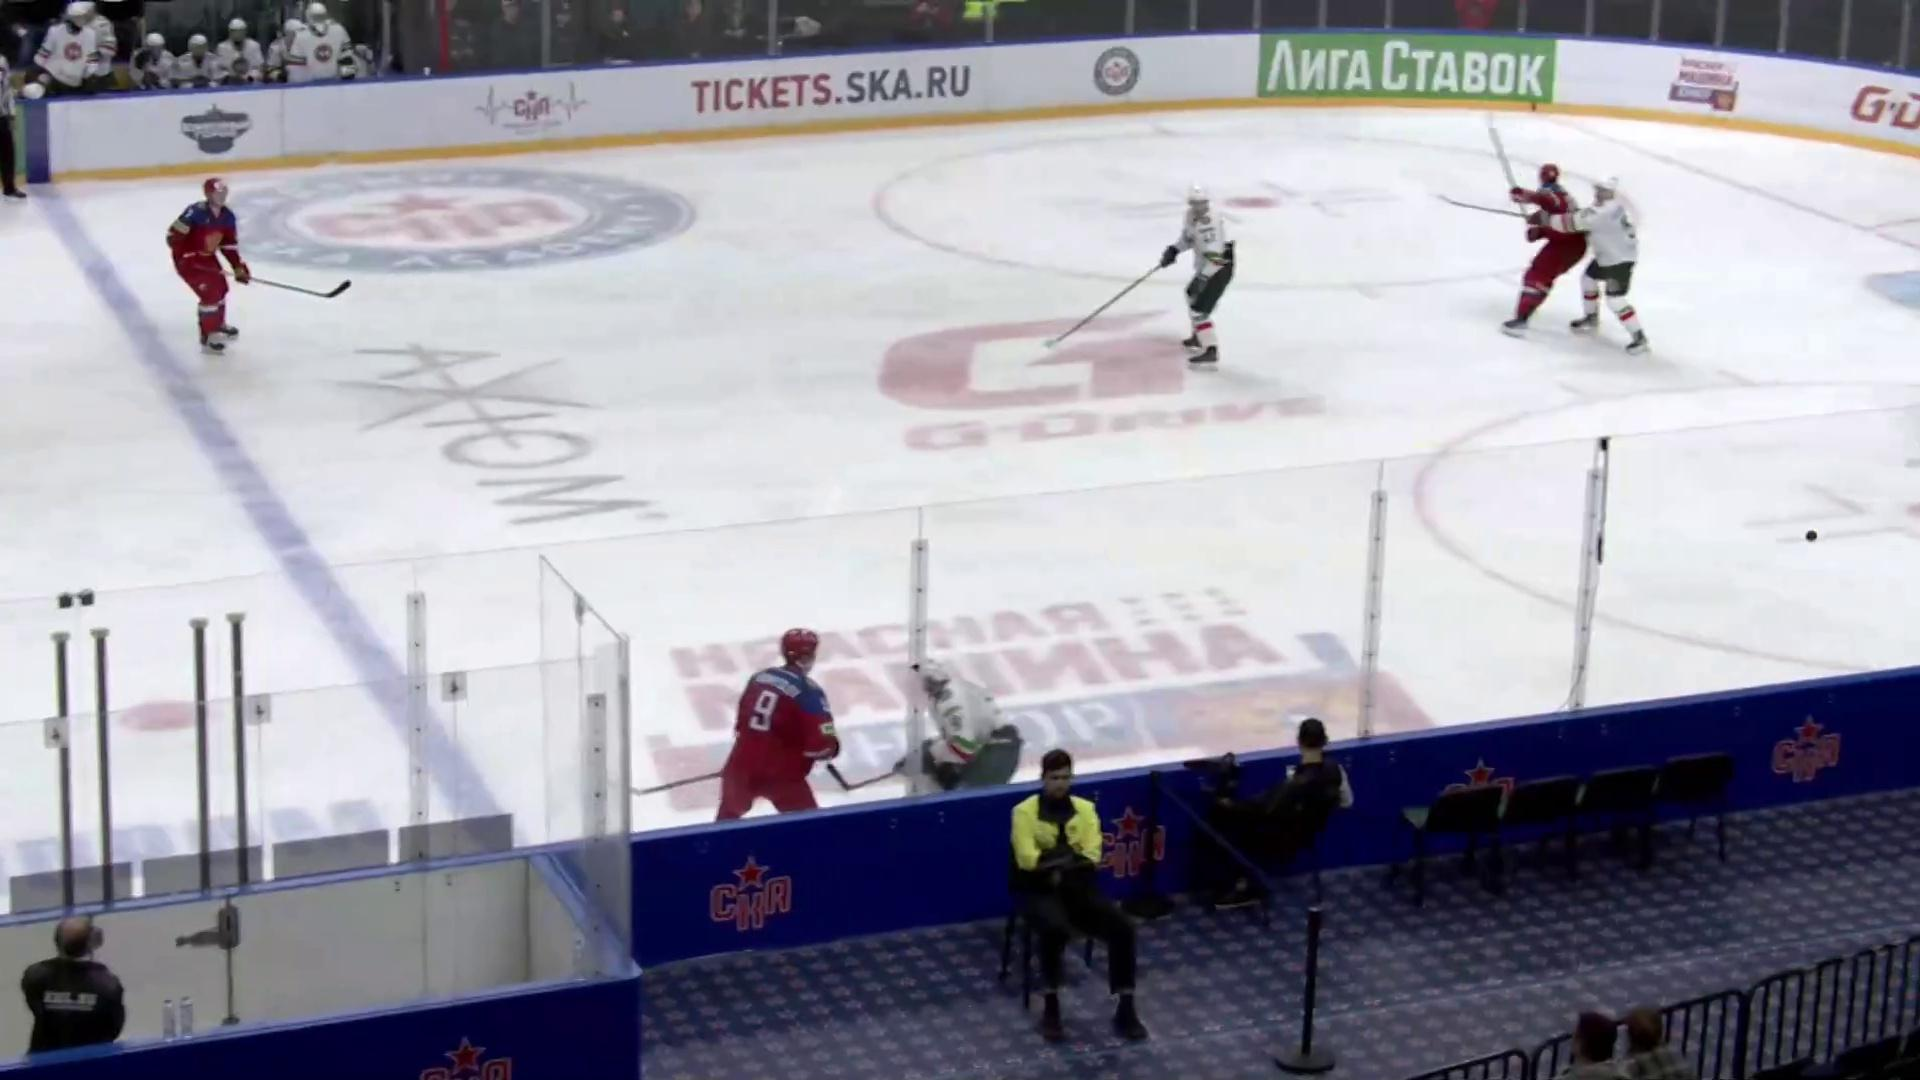ball: (1805, 530, 1818, 543)
